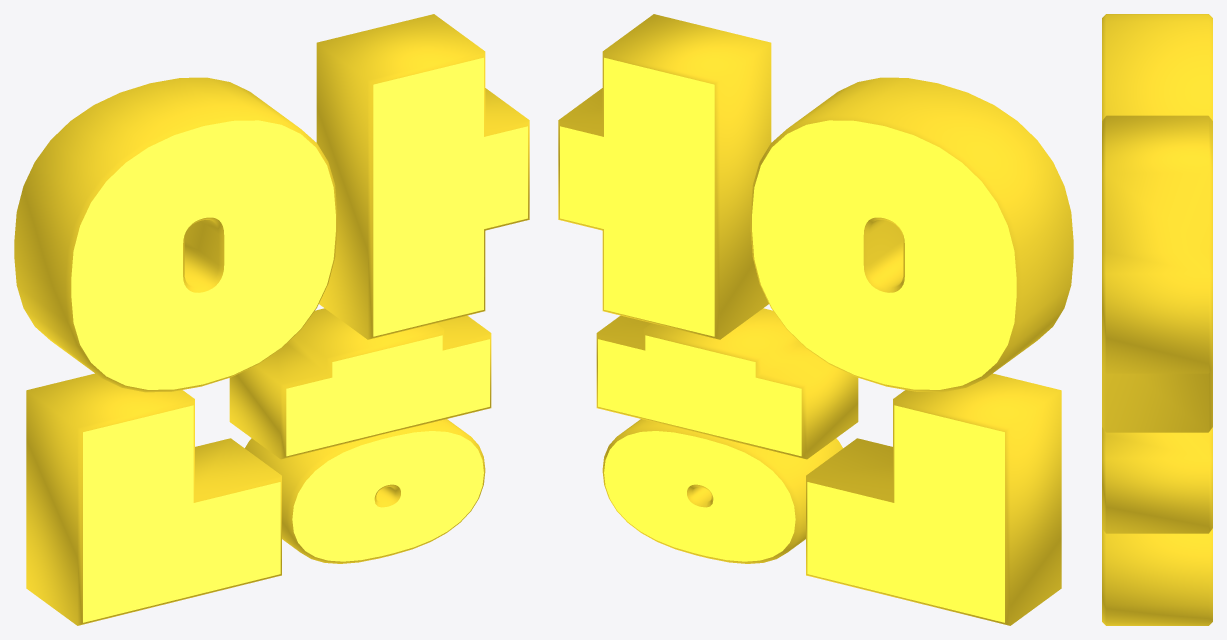
3 views of the same model, side by side, from view 1: azimuth 30°, elevation 25°; view 2: azimuth 150°, elevation 25°; view 3: azimuth 270°, elevation 25° (orthographic).
Parts seen in each view (by area): view 1: glyph; view 2: glyph; view 3: glyph.
Part boxes in pixels (x1,y1,x2,y2): glyph: (14,14,529,625); glyph: (558,14,1073,625); glyph: (1102,14,1212,625).
Bounding box in the file's own units: 0.0783 × 0.0776 × 0.0162.
